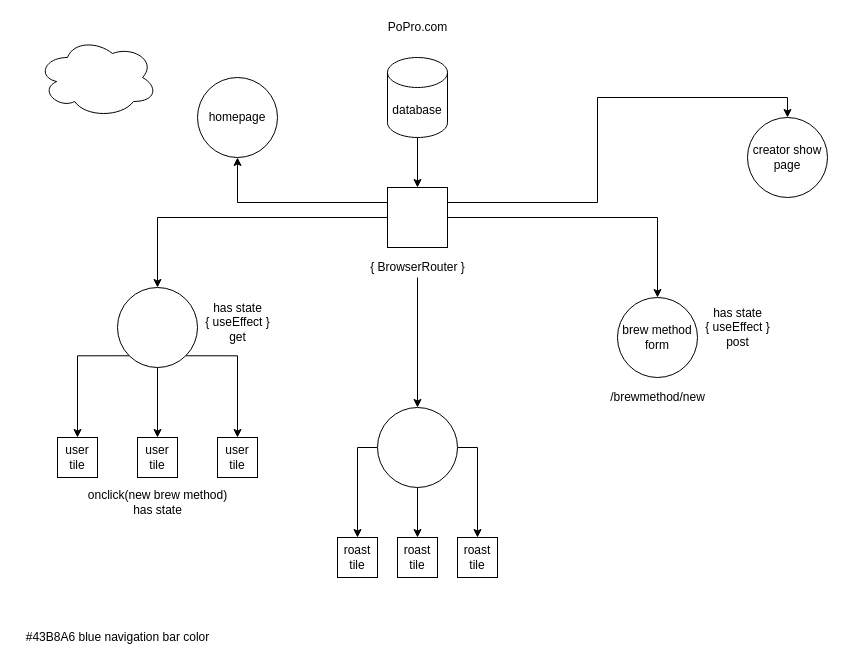
This 845x664 diagram has some shape labels left out. Each missing label, with the centre of its shape:
"App.js" goes at [417,217].
"devise sign up log in" goes at [97,77].
"Roast Container" goes at [417,447].
"Users Container" goes at [157,327].
